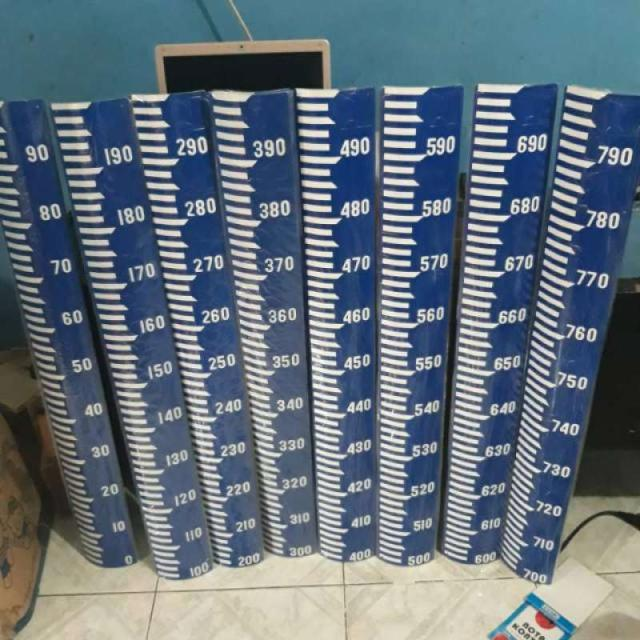staff: (298, 90, 378, 564), (381, 84, 454, 567)
